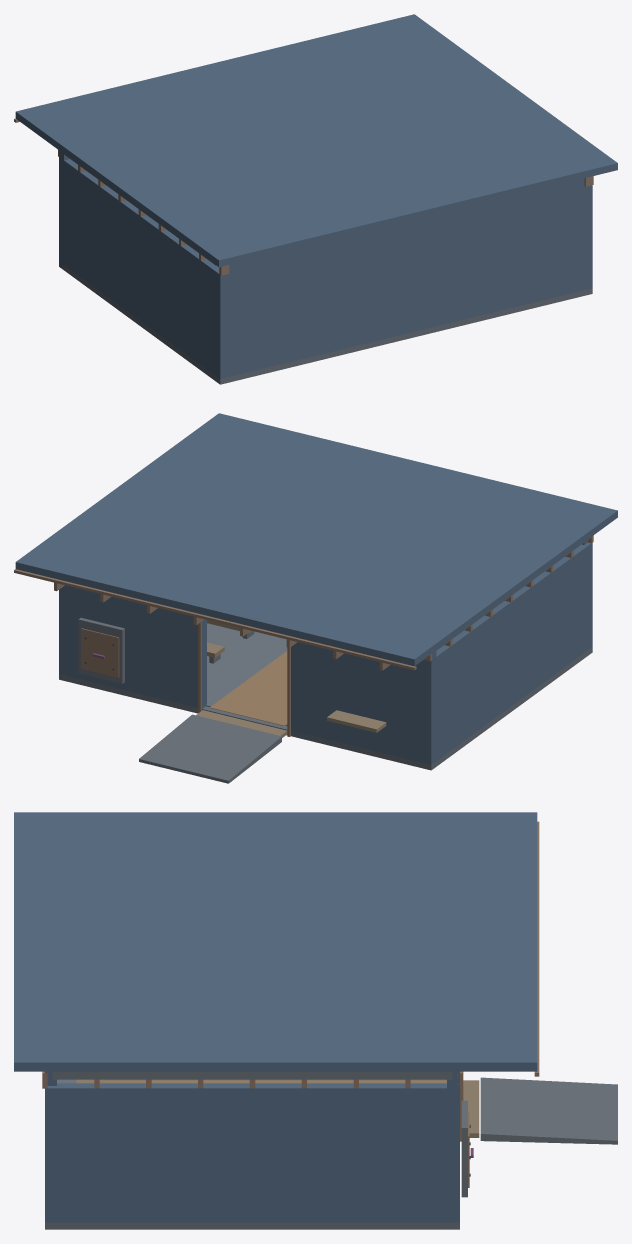
File: ENV-003-working-listening-hall-blockout-v01.glb
3 renders of one model, top to bottom at view 1: azimuth 30°, elevation 25°; view 2: azimuth 150°, elevation 25°; view 3: azimuth 270°, elevation 25°, orthographic. The views are drawn at different scales.
Visible parts, largest first — view 1: STR_roof_span, STR_back_wall, STR_side_wall_lower_L, STR_floor_structural_slab, STR_side_wall_lower_R, STR_front_pier_L; view 2: STR_roof_span, STR_side_wall_lower_L, STR_front_pier_L, STR_front_pier_R, ACCESS_ramp, FIN_floor_wear_surface, STR_floor_structural_slab, FIN_central_circulation_inlay, FIN_roof_drip_front, SERVICE_inspection_panel, SERVICE_access_housing, FURN_public_handoff_shelf (+2 smaller); view 3: STR_roof_span, STR_side_wall_lower_R, ACCESS_ramp, STR_end_beam_R, STR_floor_structural_slab, STR_front_pier_R, FIN_central_circulation_inlay, FIN_roof_drip_front, ACCESS_sill, FIN_floor_wear_surface, SERVICE_access_housing.
Part boxes in pixels (bbox=[...]): STR_roof_span: bbox=[15, 14, 617, 267]; STR_back_wall: bbox=[224, 178, 584, 377]; STR_side_wall_lower_L: bbox=[64, 159, 228, 378]; STR_floor_structural_slab: bbox=[59, 265, 592, 384]; STR_side_wall_lower_R: bbox=[584, 185, 592, 289]; STR_front_pier_L: bbox=[59, 150, 69, 265]; STR_roof_span: bbox=[15, 413, 617, 666]; STR_side_wall_lower_L: bbox=[423, 542, 592, 764]; STR_front_pier_L: bbox=[291, 642, 436, 768]; STR_front_pier_R: bbox=[59, 586, 206, 709]; ACCESS_ramp: bbox=[139, 714, 281, 783]; FIN_floor_wear_surface: bbox=[205, 623, 287, 725]; STR_floor_structural_slab: bbox=[59, 647, 592, 770]; FIN_central_circulation_inlay: bbox=[209, 651, 287, 725]; FIN_roof_drip_front: bbox=[14, 569, 416, 670]; SERVICE_inspection_panel: bbox=[81, 628, 119, 677]; SERVICE_access_housing: bbox=[78, 617, 124, 683]; FURN_public_handoff_shelf: bbox=[327, 710, 386, 732]; STR_roof_span: bbox=[14, 812, 537, 1071]; STR_side_wall_lower_R: bbox=[45, 1083, 459, 1222]; ACCESS_ramp: bbox=[480, 1077, 617, 1144]; STR_end_beam_R: bbox=[52, 1071, 452, 1079]; STR_floor_structural_slab: bbox=[45, 1222, 459, 1229]; STR_front_pier_R: bbox=[447, 1072, 459, 1223]; FIN_central_circulation_inlay: bbox=[105, 1080, 446, 1083]; FIN_roof_drip_front: bbox=[534, 821, 539, 1076]; ACCESS_sill: bbox=[463, 1080, 479, 1137]; FIN_floor_wear_surface: bbox=[57, 1079, 446, 1083]; SERVICE_access_housing: bbox=[461, 1100, 467, 1197].
Bounding box in the file's own units: 12.05 × 4 × 12.23.
